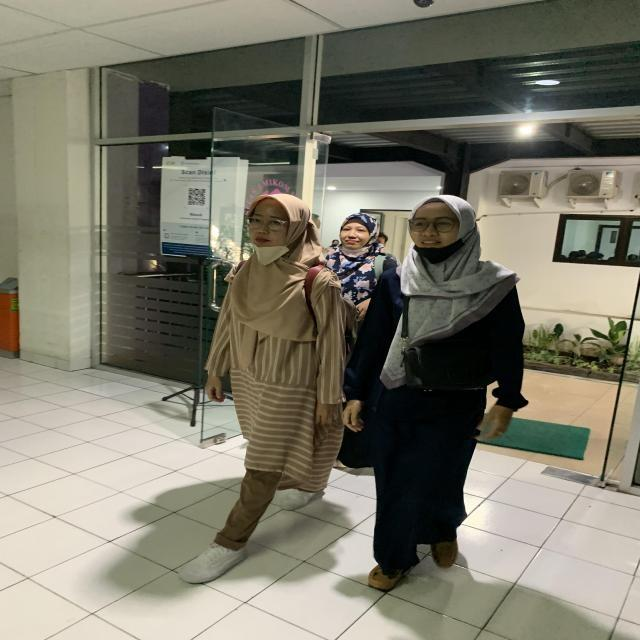hairnet: (399, 190, 496, 267), (235, 193, 319, 267), (328, 210, 406, 262)
